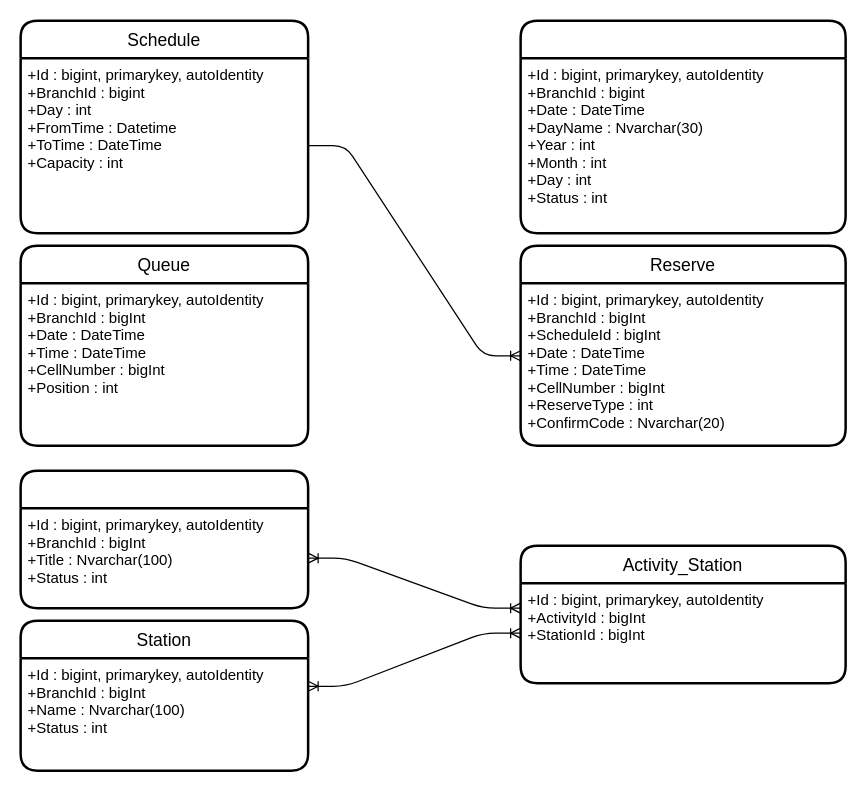
Some shapes in this 866 by 791 pixel diagram are drawn without their labels. Here are the shapes that lost their labels. From the top down, the box of each, then its label:
(519, 19, 846, 234): Calendar
(19, 469, 309, 609): Activity
